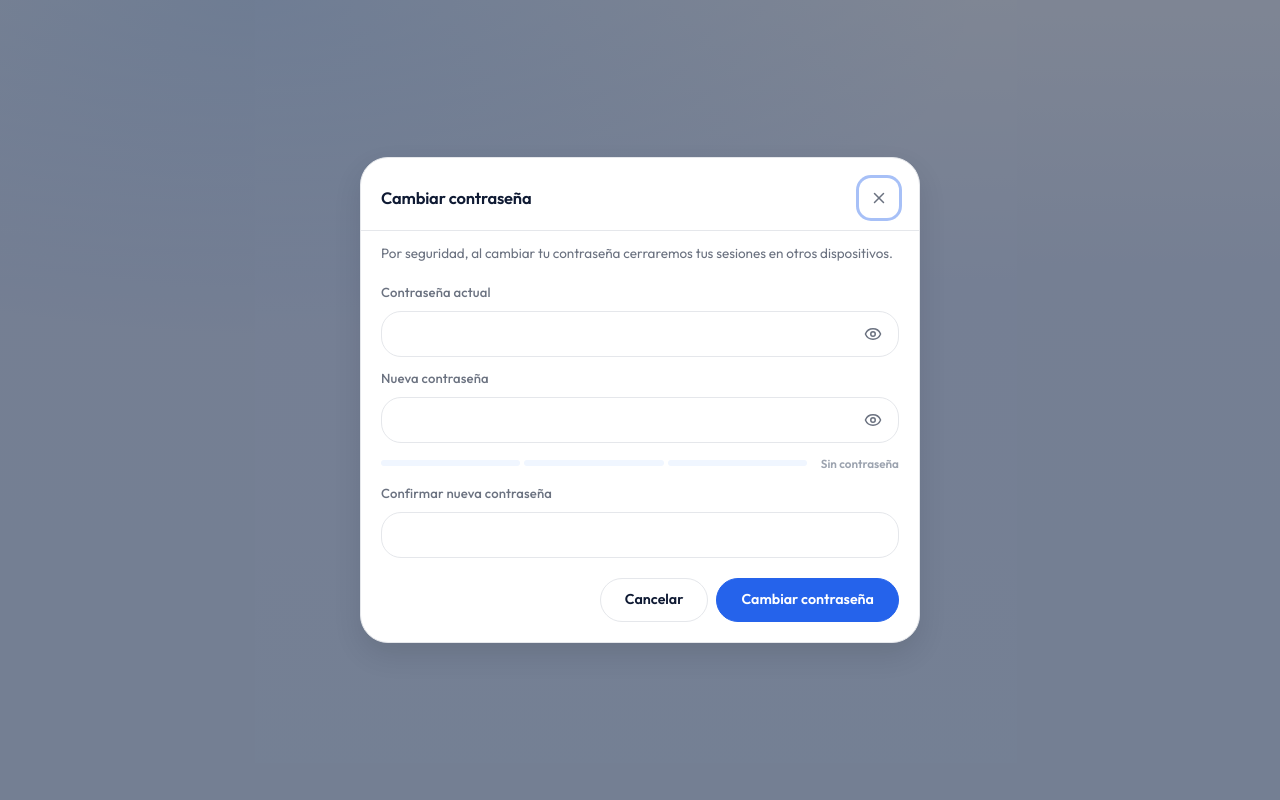
Test: CambiarPasswordModal › muestra el mensaje cuando el backend rechaza con ERR_PASSWORD_ACTUAL_INCORRECTA
Type "Equivocada123" into the password field labelled "Contraseña actual" at (619, 334), box [382,312,856,356]
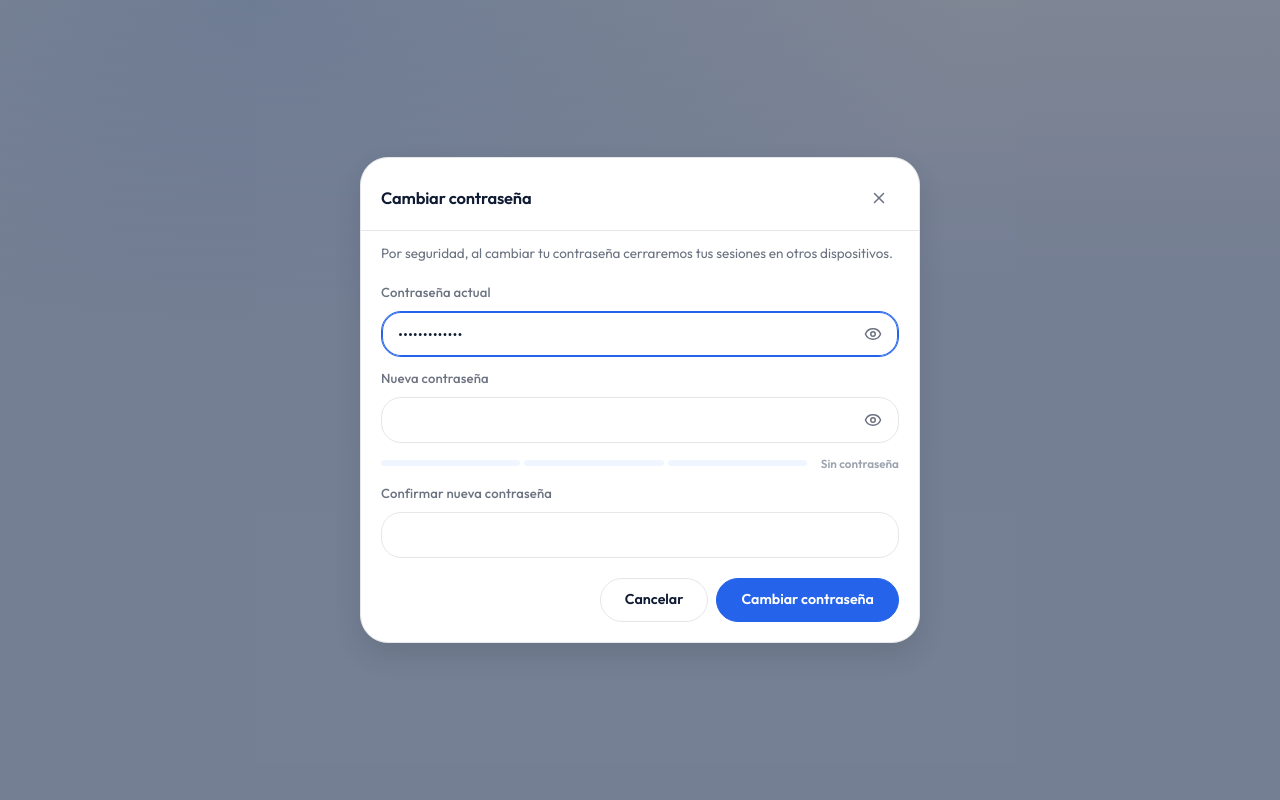
Type "NuevaSecreta123" into the password field labelled "Nueva contraseña" at (619, 420), box [382,398,856,442]
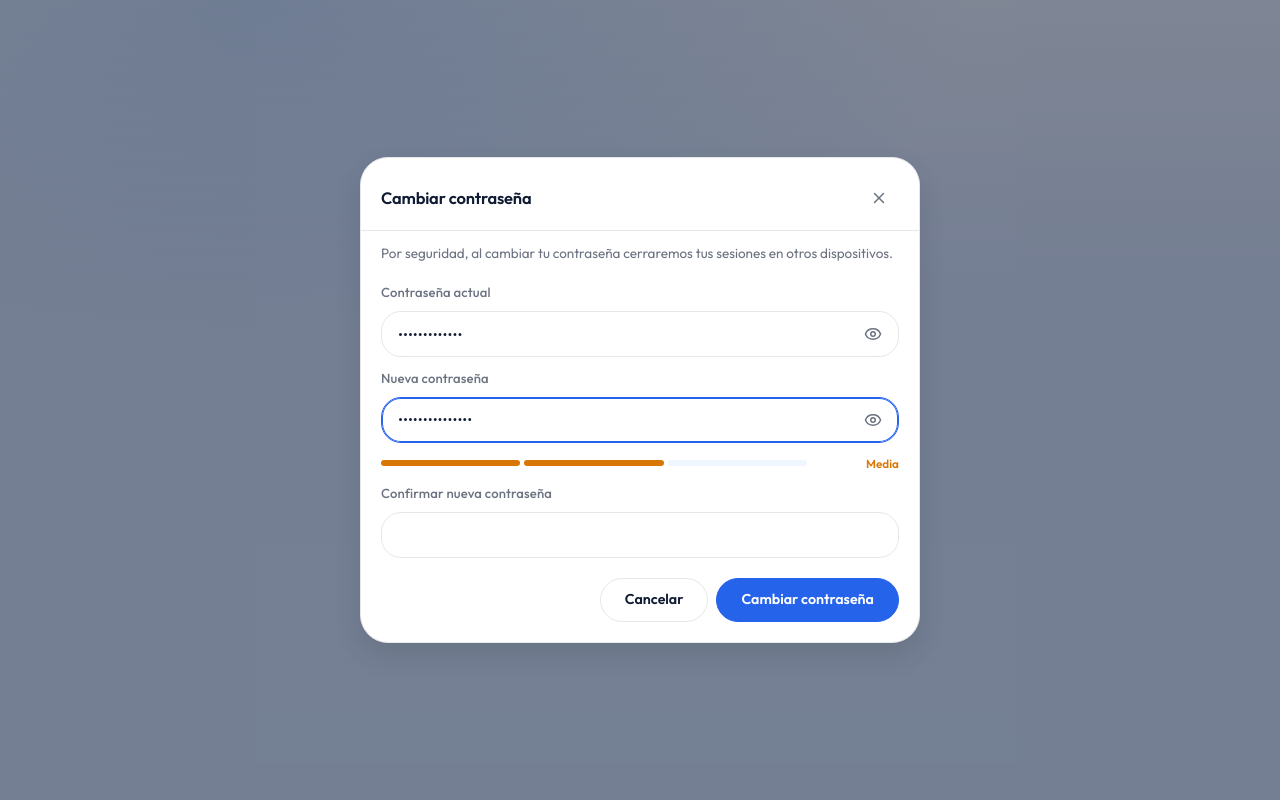
Type "NuevaSecreta123" into the password field labelled "Confirmar nueva contraseña" at (640, 535), box [382,513,898,557]
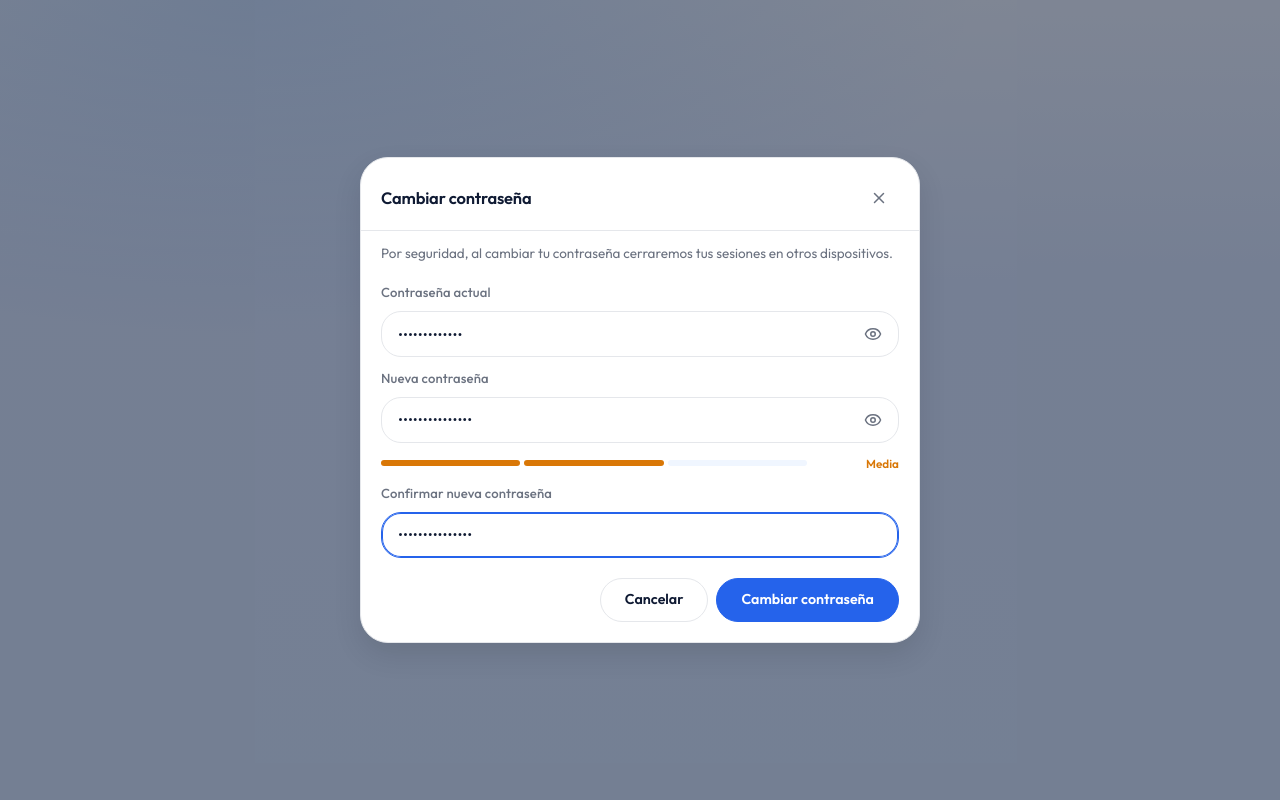
Click the button "Cambiar contraseña" at (808, 600), box [716,578,899,622]
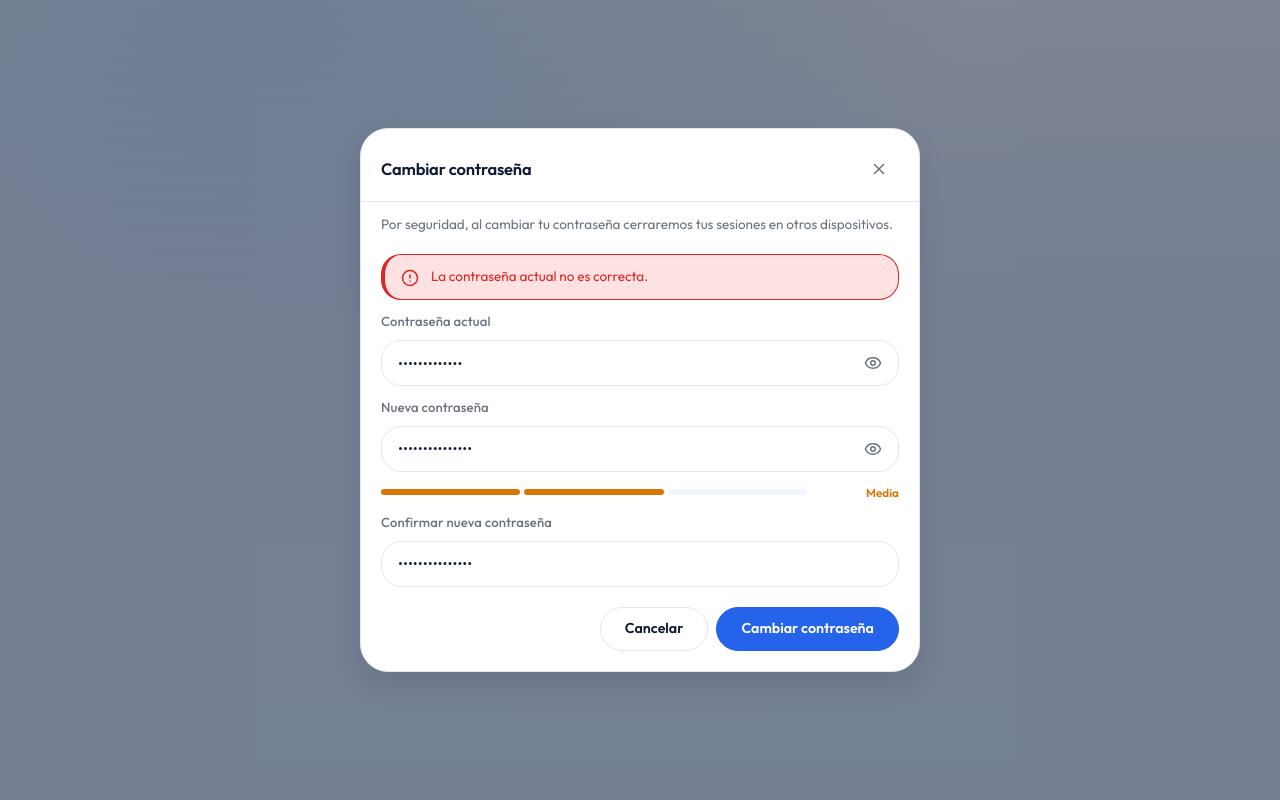
Check: the text "La contraseña actual no es correcta." is shown, box [431,267,648,285]
